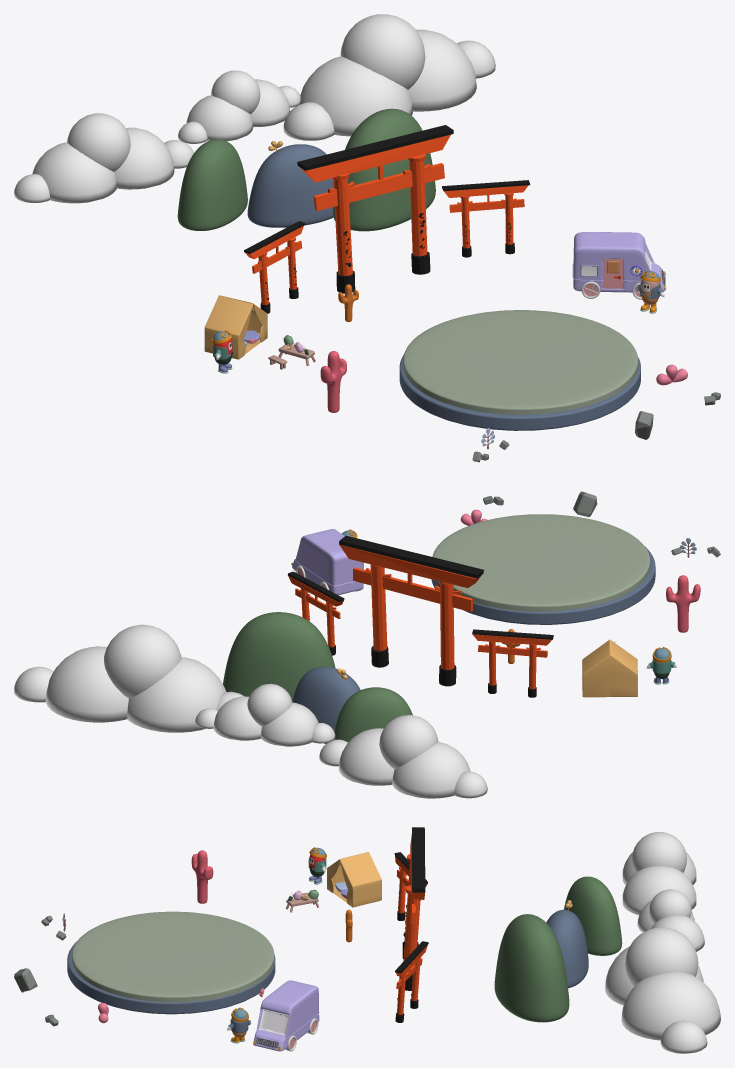
Rendered from Stage.gltf-transformed.glb.
3 views of the same model, one above another, from view 1: azimuth 30°, elevation 25°; view 2: azimuth 150°, elevation 25°; view 3: azimuth 270°, elevation 25° (orthographic). The views are drawn at different scales.
Parts seen in each view (by area): view 1: hill_01, wheels detals, Torii, body; view 2: hill_01, wheels detals, Torii, body; view 3: hill_01, wheels detals, body, Torii.
Part boxes in pixels (bbox=[...]): hill_01: bbox=[177, 108, 662, 430]; wheels detals: bbox=[14, 14, 639, 349]; Torii: bbox=[244, 125, 530, 313]; body: bbox=[204, 141, 720, 462]; hill_01: bbox=[223, 514, 655, 743]; wheels detals: bbox=[14, 624, 616, 798]; Torii: bbox=[288, 535, 553, 697]; body: bbox=[291, 491, 720, 697]; hill_01: bbox=[67, 876, 622, 1032]; wheels detals: bbox=[290, 832, 720, 1053]; body: bbox=[14, 847, 572, 1051]; Torii: bbox=[394, 827, 428, 1022].
Bounding box in the file's own units: 23.73 × 6.27 × 34.15.
3 materials, 3 textured.
